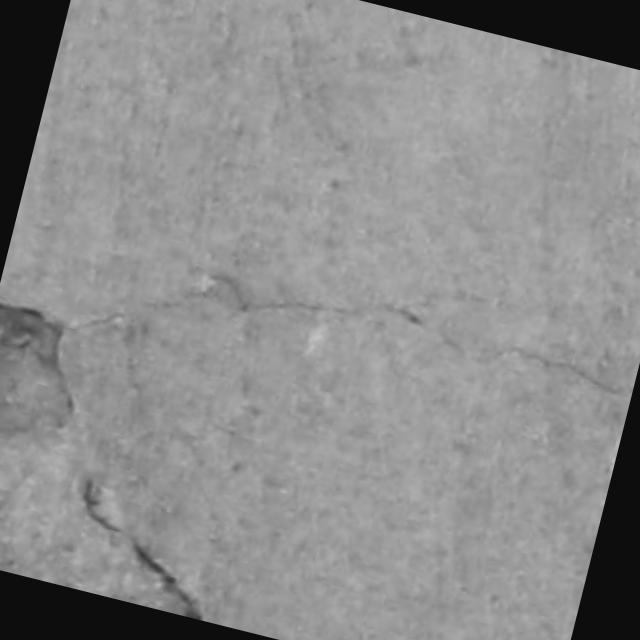crack: (80, 477, 203, 620), (136, 273, 423, 326), (0, 303, 75, 414), (485, 346, 632, 396), (132, 540, 203, 620), (80, 478, 123, 533)
